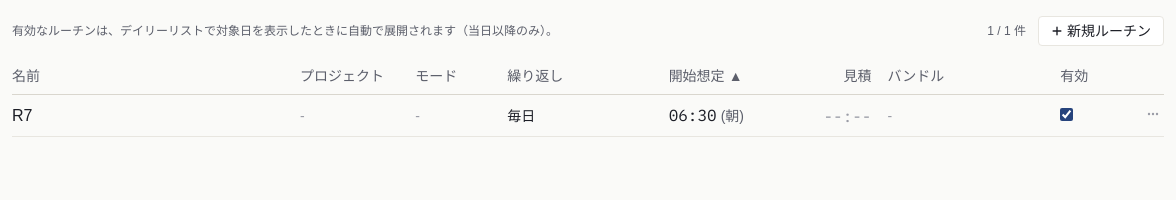
Test case: RoutinesTable（画面定義書02 §5: 有効/無効・削除・編集。§1 N-01 の対象外） › 楽観的更新はしない（成功しても失敗してもチェック状態は props のまま）
Click the checkbox named "R7 を有効にする" at (1067, 114), box [1060,108,1073,120]
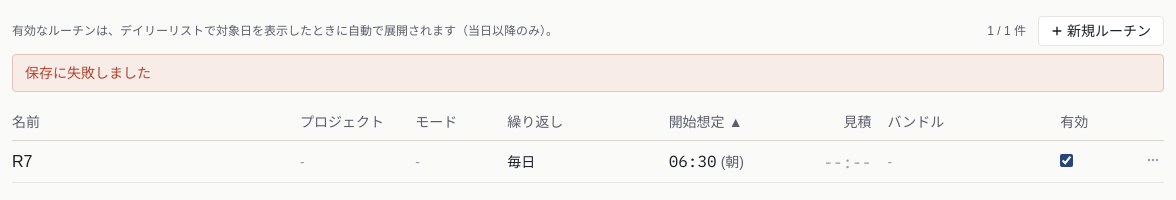
Expected: the checkbox named "R7 を有効にする" is checked, [1060,154,1073,166]
Expected: the text "保存に失敗しました" is shown, [12,54,1164,92]
